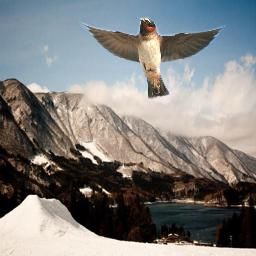Swallow: (78, 17, 226, 99)
